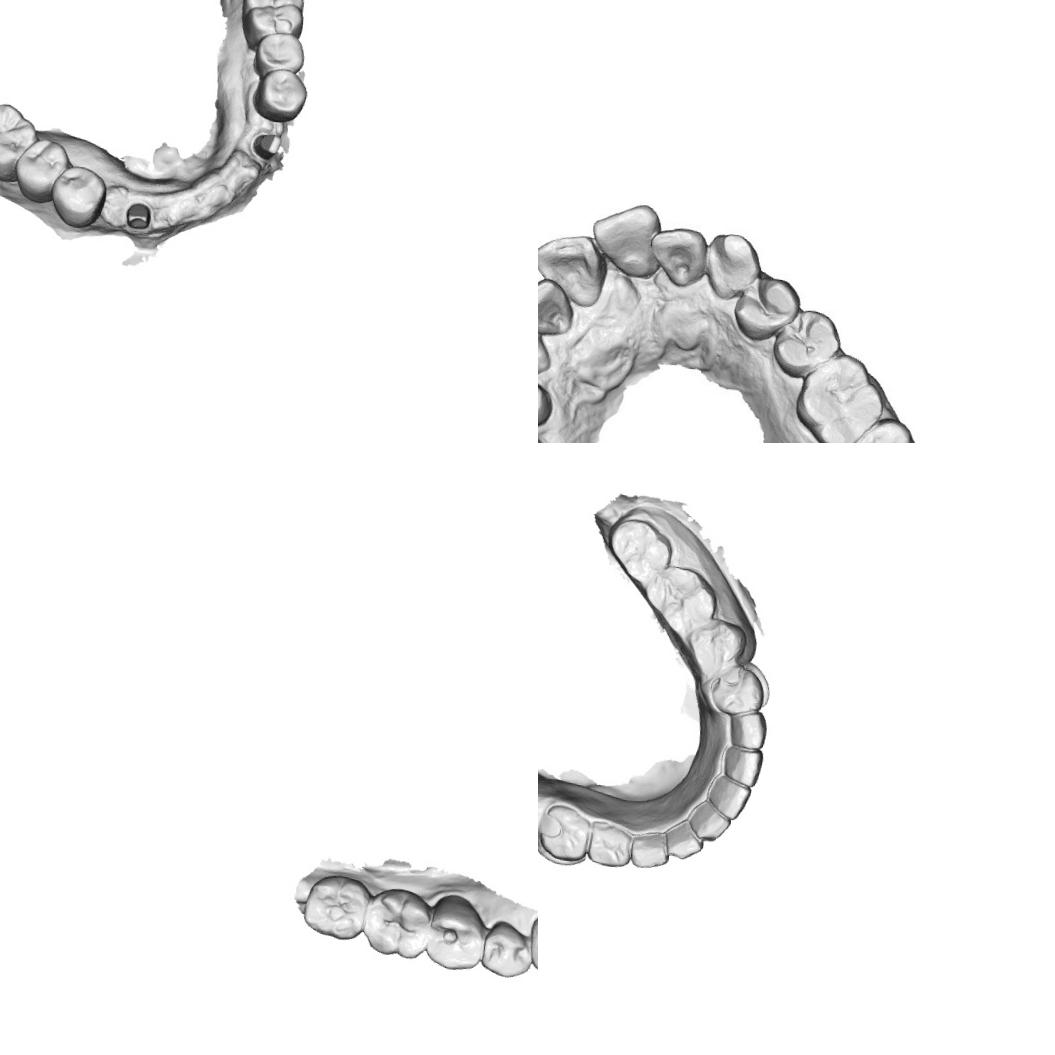abutment: (246, 128, 284, 164), (122, 199, 154, 234)
canine: (701, 232, 760, 304), (724, 707, 770, 752), (628, 828, 672, 872), (538, 316, 557, 384), (527, 913, 538, 976)
incisor: (585, 198, 666, 284), (538, 227, 609, 309), (648, 224, 712, 290), (703, 770, 754, 823), (538, 275, 579, 338), (685, 796, 734, 845), (718, 742, 766, 790), (662, 816, 707, 862)
molar: (791, 352, 890, 443), (640, 562, 722, 638), (362, 884, 434, 960), (604, 515, 676, 587), (300, 871, 373, 942), (0, 98, 42, 187), (236, 0, 309, 50), (834, 412, 927, 443)
premolar: (770, 302, 844, 382), (726, 270, 801, 345), (424, 890, 490, 974), (682, 614, 750, 680), (46, 162, 110, 232), (12, 134, 72, 206), (250, 66, 311, 126), (538, 801, 594, 866), (707, 663, 768, 719), (480, 918, 535, 980), (250, 29, 307, 83), (584, 816, 636, 870)
